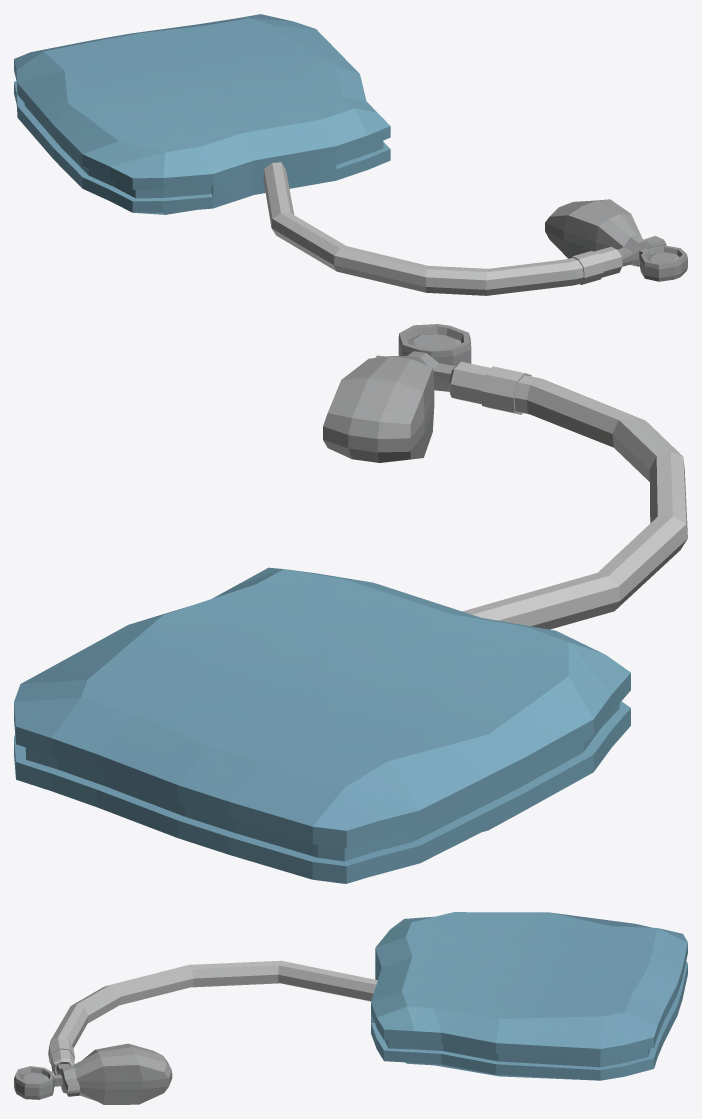
The model's file is pressure_gauge.glb.
3 renders of one model, top to bottom at view 1: azimuth 30°, elevation 25°; view 2: azimuth 150°, elevation 25°; view 3: azimuth 270°, elevation 25°, orthographic. The views are drawn at different scales.
Visible parts, largest first — view 1: bag, hose, gauge; view 2: bag, hose, gauge; view 3: bag, hose, gauge.
Boxes of the visible parts, x1=… form: bag: x1=14, y1=14, x2=390, y2=214; hose: x1=263, y1=162, x2=622, y2=295; gauge: x1=545, y1=199, x2=687, y2=281; bag: x1=14, y1=567, x2=630, y2=883; hose: x1=449, y1=361, x2=687, y2=629; gauge: x1=323, y1=324, x2=471, y2=462; bag: x1=371, y1=912, x2=687, y2=1080; hose: x1=48, y1=960, x2=377, y2=1074; gauge: x1=14, y1=1043, x2=172, y2=1104.
Size of the model in its own units: 0.2424 by 0.0398 by 0.4244.
1 material, 1 textured.
